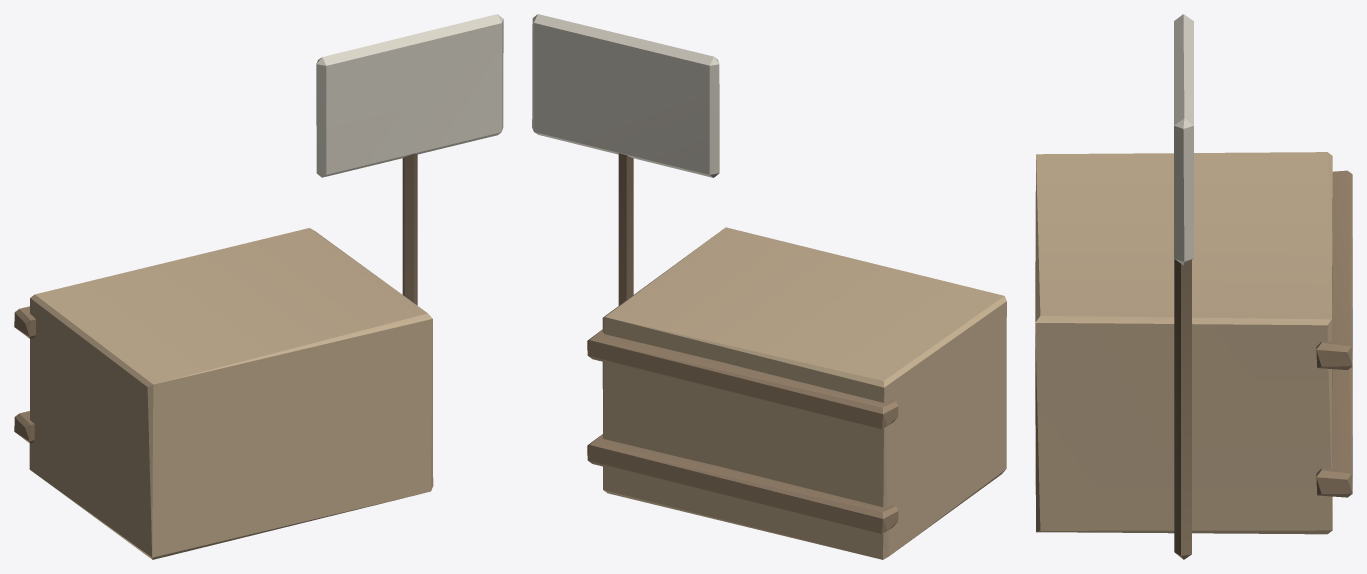
The model's file is shop_sold_sign_low.glb.
The picture shows the model from 3 angles, left to right: view 1: azimuth 30°, elevation 25°; view 2: azimuth 150°, elevation 25°; view 3: azimuth 270°, elevation 25°; orthographic projection. The views are drawn at different scales.
Bounding box in the file's own units: 0.5909 × 0.5423 × 0.3162.
